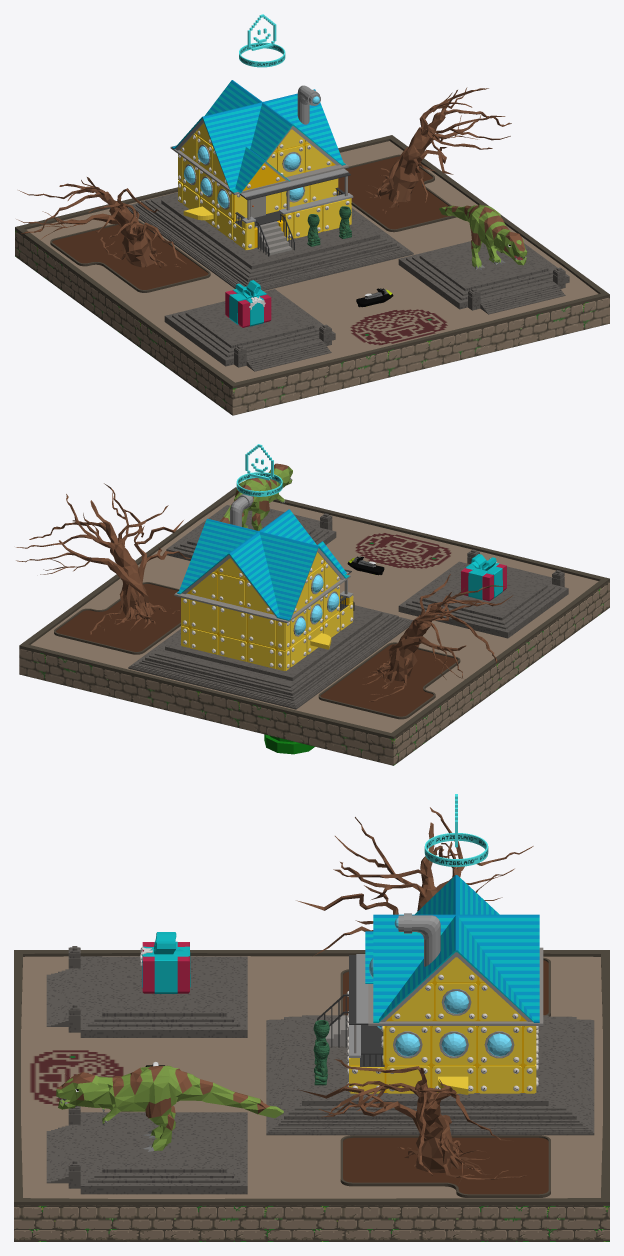
3 views of the same model, one above another, from view 1: azimuth 30°, elevation 25°; view 2: azimuth 150°, elevation 25°; view 3: azimuth 270°, elevation 25° (orthographic). The views are drawn at different scales.
Parts seen in each view (by area): view 1: Cube.011, Cube.1366, ANIMAL_TREX, OBJRANDOM_GIANT_PRESENT, TYPE_PREMIUM; view 2: Cube.011, Cube.1366, OBJRANDOM_GIANT_PRESENT, ANIMAL_TREX, TYPE_PREMIUM, UNDERGROUND_PIPES; view 3: Cube.011, Cube.1366, ANIMAL_TREX, OBJRANDOM_GIANT_PRESENT, TYPE_PREMIUM.
Part boxes in pixels (x1,y1,x2,y2): Cube.011: [15, 87, 609, 415]; Cube.1366: [170, 80, 353, 256]; ANIMAL_TREX: [439, 204, 527, 269]; OBJRANDOM_GIANT_PRESENT: [225, 280, 271, 327]; TYPE_PREMIUM: [239, 14, 285, 67]; Cube.011: [16, 483, 609, 765]; Cube.1366: [174, 494, 354, 670]; OBJRANDOM_GIANT_PRESENT: [461, 554, 506, 601]; ANIMAL_TREX: [219, 463, 292, 530]; TYPE_PREMIUM: [236, 444, 282, 496]; UNDERGROUND_PIPES: [264, 734, 314, 754]; Cube.011: [14, 807, 609, 1241]; Cube.1366: [317, 875, 543, 1094]; ANIMAL_TREX: [56, 1065, 283, 1151]; OBJRANDOM_GIANT_PRESENT: [140, 932, 190, 993]; TYPE_PREMIUM: [424, 794, 488, 866].
Bounding box in the file's own units: 5099 × 3050 × 4000.
32 materials, 6 textured.
